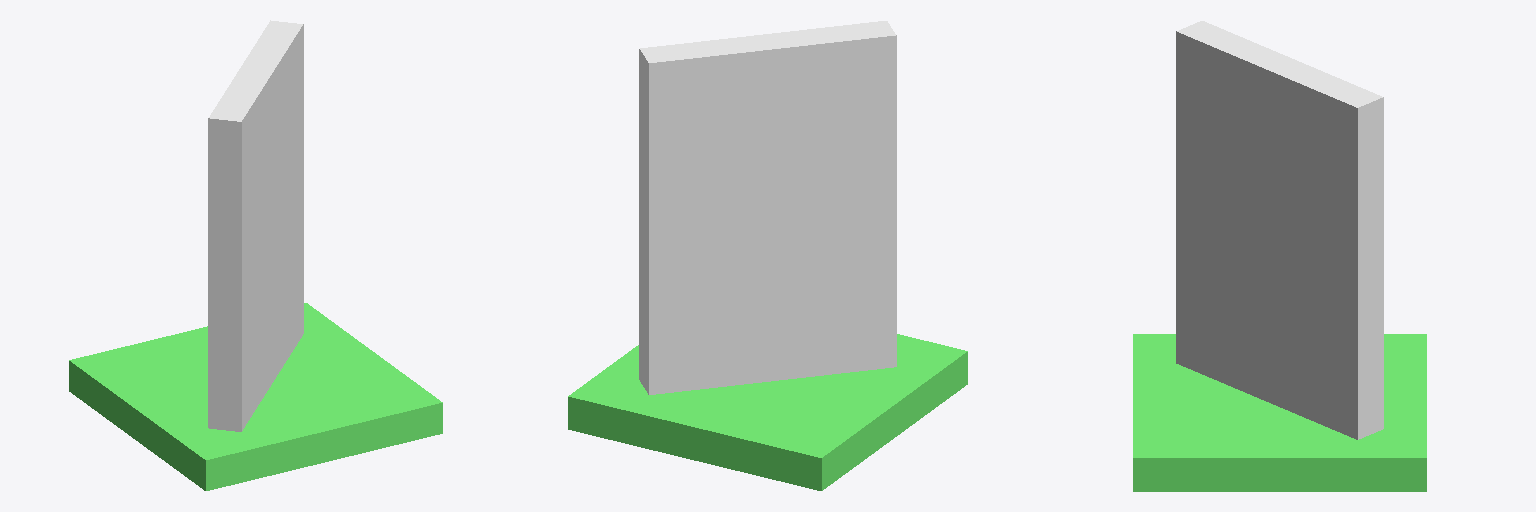
robot.urdf — mirror_piece:
<?xml version="1.0"?>
<robot name="mirror_piece">

  <link name="base_link">
    <visual>
      <origin xyz="0 0 0.005" rpy="0 0 0"/>
      <geometry>
        <box size="0.08 0.08 0.01"/>
      </geometry>
      <material name="mirror_piece_base_material">
        <color rgba="0.5 1 0.5 1"/>
      </material>
    </visual>
    <collision>
      <origin xyz="0 0 0.005" rpy="0 0 0"/>
      <geometry>
        <box size="0.08 0.08 0.01"/>
      </geometry>
    </collision>
  </link>


  <link name="mirror_piece_body">
    <visual>
      <origin xyz="0 0 0.060000000000000005" rpy="0 0 0.7853981633974483"/>
      <geometry>
        <box size="0.07 0.01 0.1"/>
      </geometry>
      <material name="mirror_piece_body_material">
        <color rgba="1 1 1 1"/>
        <specular>1 1 1 1</specular>
      </material>
    </visual>
    <collision>
      <origin xyz="0 0 0.060000000000000005" rpy="0 0 0.7853981633974483"/>
      <geometry>
        <box size="0.07 0.01 0.1"/>
      </geometry>
    </collision>
  </link>


  <joint name="base_to_mirror_piece_body" type="fixed">
    <parent link="base_link"/>
    <child link="mirror_piece_body"/>
    <origin xyz="0 0 0" rpy="0 0 0"/>
  </joint>

</robot>

--- What the picture shows (computed from the rendered views, not written in the file) ---
The picture shows the robot from 3 angles, left to right: view 1: azimuth 30°, elevation 25°; view 2: azimuth 150°, elevation 25°; view 3: azimuth 270°, elevation 25°; orthographic projection.
Robot: mirror_piece — 2 links, 1 joints (1 fixed); root link base_link; default pose: every joint at zero.
Visible links, largest first — view 1: base_link, mirror_piece_body; view 2: mirror_piece_body, base_link; view 3: mirror_piece_body, base_link.
Link boxes in pixels (<box>): base_link: <box>69,303,442,490</box>; mirror_piece_body: <box>208,20,303,431</box>; mirror_piece_body: <box>639,21,896,394</box>; base_link: <box>568,334,967,490</box>; mirror_piece_body: <box>1176,21,1383,439</box>; base_link: <box>1133,334,1426,491</box>.
Size in the robot's own frame: 0.08 by 0.08 by 0.11 metres.
Geometry: primitives only (box / cylinder / sphere), no mesh files.